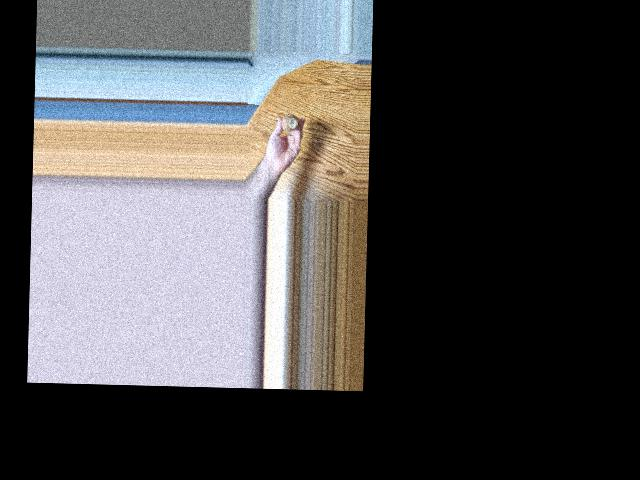sweet_potato: (279, 113, 298, 129)
